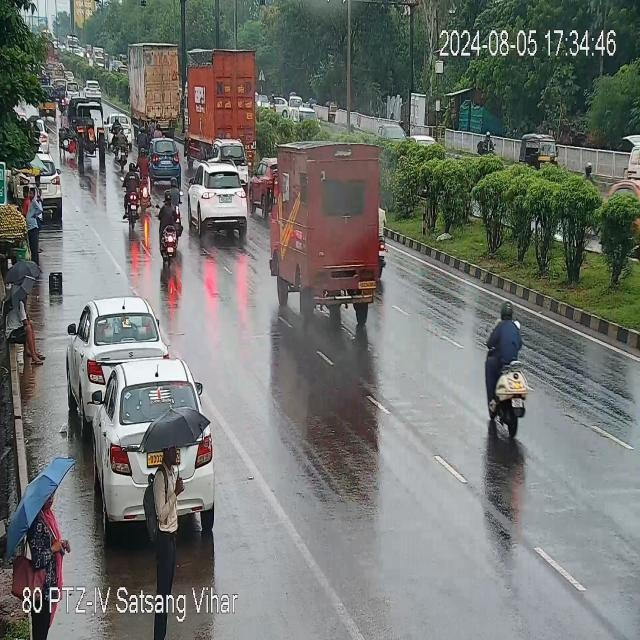2-wheelers: (479, 305, 528, 438), (157, 185, 177, 274), (123, 162, 141, 222), (138, 149, 153, 207), (480, 127, 498, 159), (117, 125, 128, 167), (110, 115, 120, 157), (171, 172, 182, 208), (136, 125, 148, 150), (59, 84, 66, 115)
auto: (69, 100, 105, 170), (520, 135, 562, 166), (208, 139, 248, 162), (39, 84, 58, 117)
car: (92, 362, 210, 485), (68, 294, 162, 400), (186, 166, 252, 245), (250, 153, 277, 210), (153, 136, 183, 186), (44, 156, 66, 206), (107, 112, 131, 146)
pedestrian: (151, 450, 183, 583), (24, 496, 70, 579), (0, 291, 43, 366), (26, 184, 41, 266), (34, 175, 46, 218)
truck: (267, 136, 395, 318), (181, 42, 267, 166), (130, 42, 185, 132)
